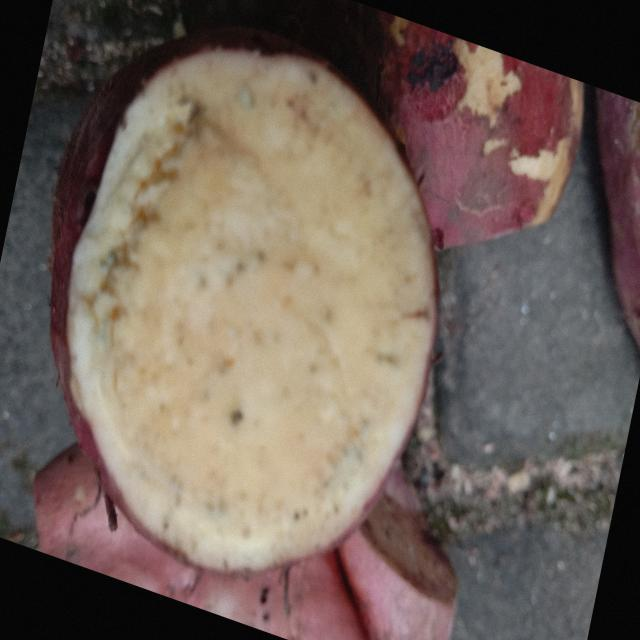Healthy Sweet Potato: (68, 48, 436, 570)
